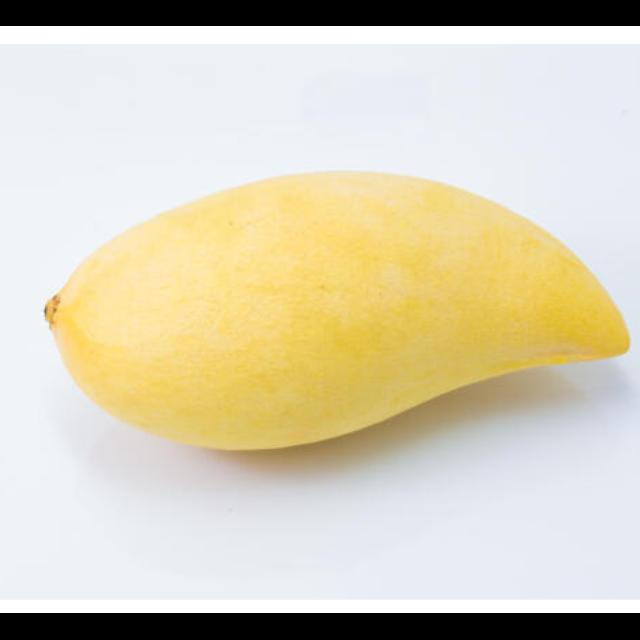mango: (42, 167, 632, 454)
